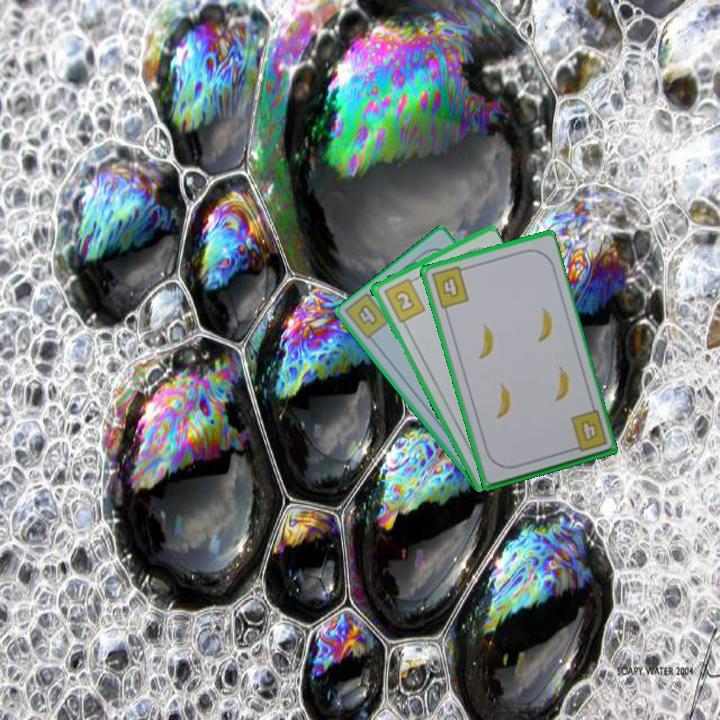2b: (380, 274, 428, 325)
4b: (428, 263, 472, 311), (566, 407, 610, 455), (353, 300, 380, 328)
